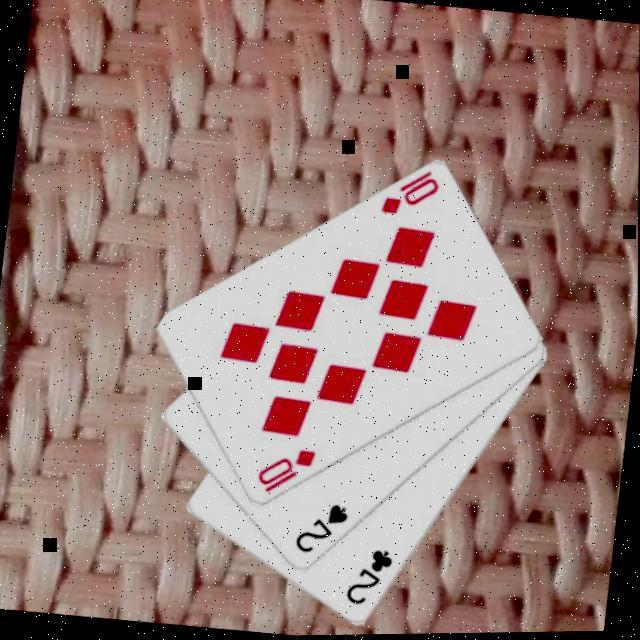10D: (251, 442, 318, 502), (376, 165, 442, 224)
2C: (341, 545, 396, 614)
2S: (290, 498, 352, 562)
